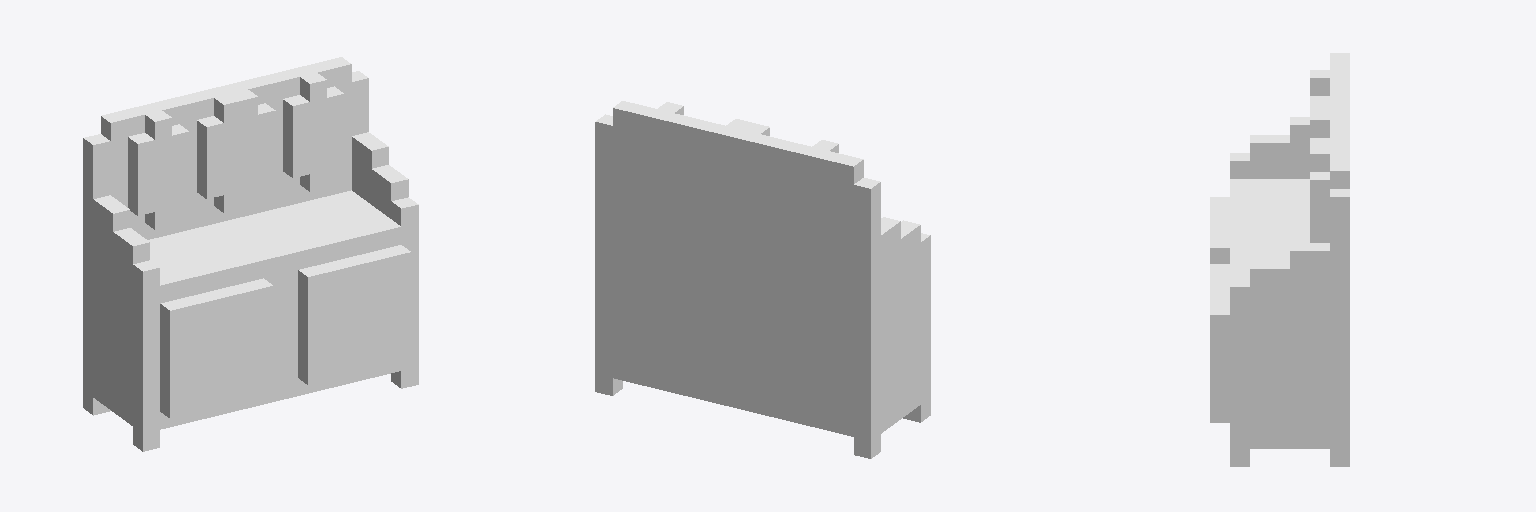
File: cupboard_w_mirror.obj
3 views of the same model, side by side, from view 1: azimuth 30°, elevation 25°; view 2: azimuth 150°, elevation 25°; view 3: azimuth 270°, elevation 25° (orthographic).
Parts seen in each view (by area): view 1: cupboard_w_mirror; view 2: cupboard_w_mirror; view 3: cupboard_w_mirror.
Boxes of the visible parts, x1=… form: cupboard_w_mirror: x1=83, y1=57, x2=418, y2=451; cupboard_w_mirror: x1=595, y1=101, x2=930, y2=458; cupboard_w_mirror: x1=1210, y1=53, x2=1349, y2=466.
Bounding box in the file's own units: 16 × 16 × 7.